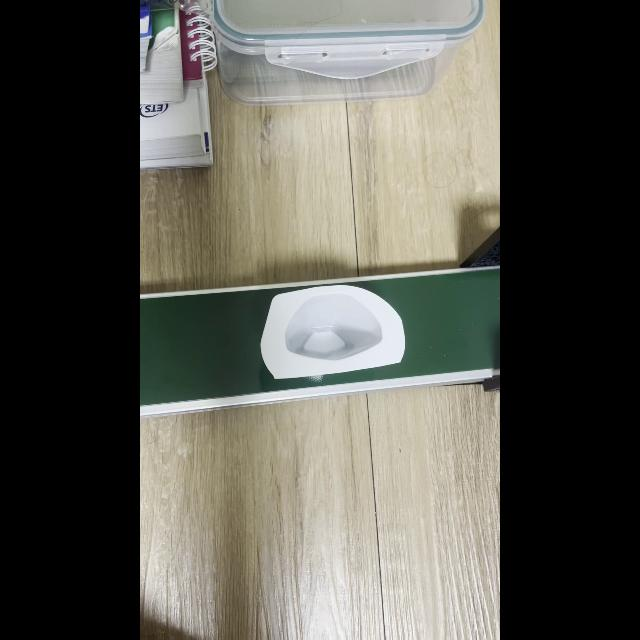clean: (268, 290, 392, 372)
